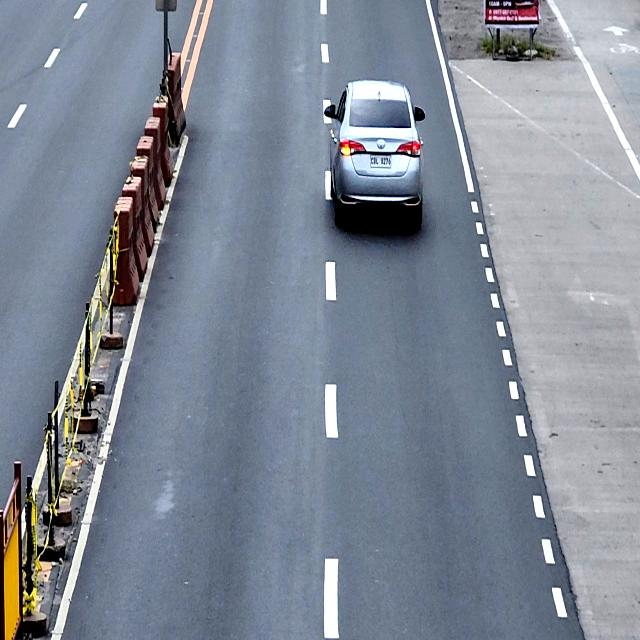Car: (325, 77, 427, 231)
License-Plate: (370, 151, 392, 169)
